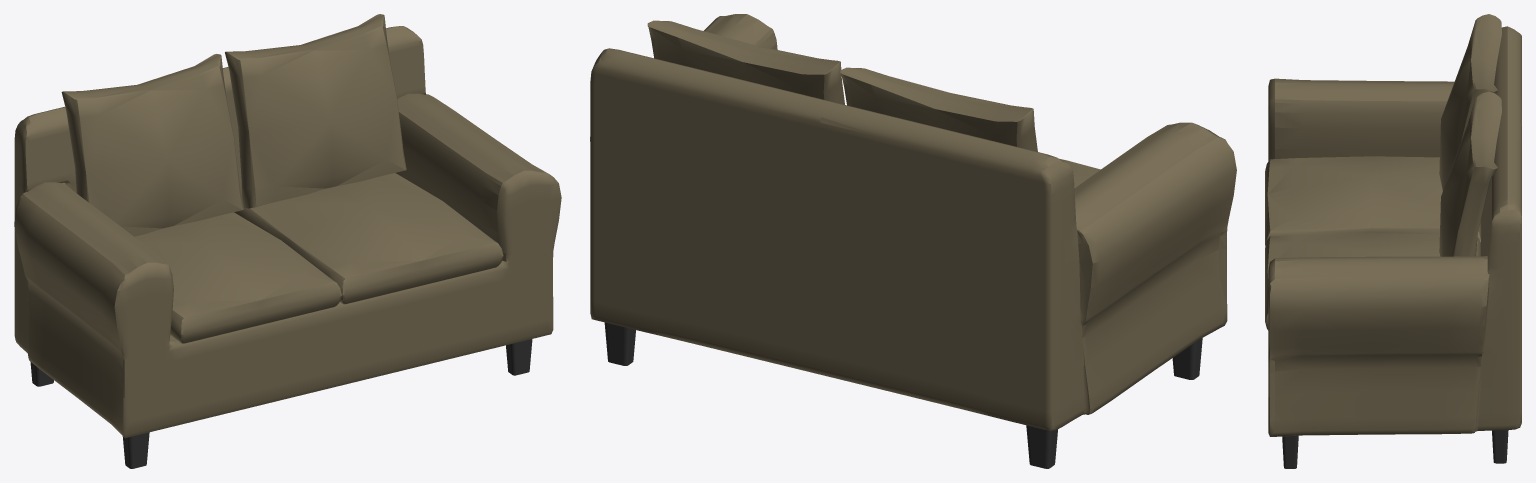
Rendered from IKEA-Fothult_2_Seat_Sofa-3D.obj.
3 views of the same model, side by side, from view 1: azimuth 30°, elevation 25°; view 2: azimuth 150°, elevation 25°; view 3: azimuth 270°, elevation 25° (orthographic). The views are drawn at different scales.
Visible parts, largest first — view 1: Loft01; view 2: Loft01; view 3: Loft01.
Boxes of the visible parts, x1=… form: Loft01: x1=14, y1=14, x2=561, y2=468; Loft01: x1=590, y1=14, x2=1236, y2=468; Loft01: x1=1265, y1=14, x2=1521, y2=468.
Size of the model in its own units: 3742 by 2317 by 1903.
